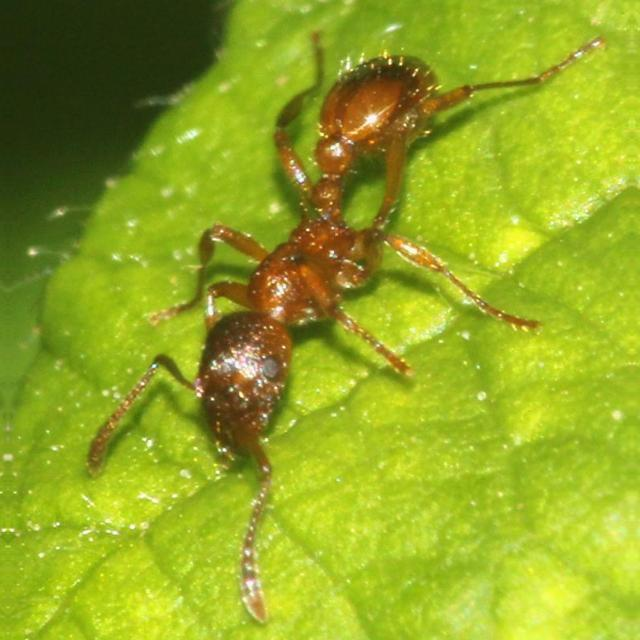Myrmica: (104, 28, 526, 550)
